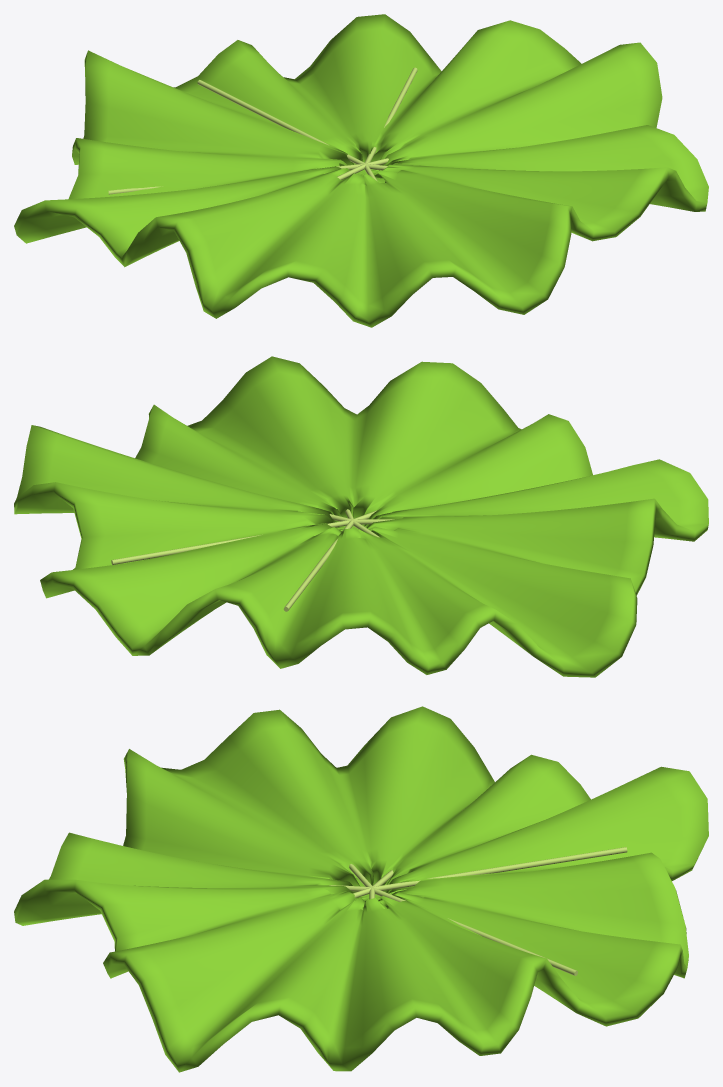
The model's file is item_lettuce.glb.
3 renders of one model, top to bottom at view 1: azimuth 30°, elevation 25°; view 2: azimuth 150°, elevation 25°; view 3: azimuth 270°, elevation 25°, orthographic. The views are drawn at different scales.
Parts seen in each view (by area): view 1: フリルレタス; view 2: フリルレタス; view 3: フリルレタス.
Part boxes in pixels (x1,y1,x2,y2): フリルレタス: [14, 14, 708, 327]; フリルレタス: [14, 356, 708, 677]; フリルレタス: [14, 706, 708, 1072].
Size of the model in its own units: 1.07 by 0.1482 by 0.9582.
